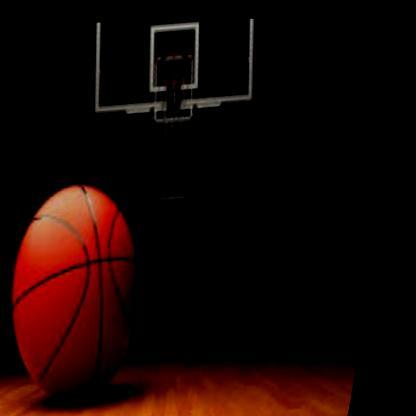basketball: (0, 166, 181, 410)
